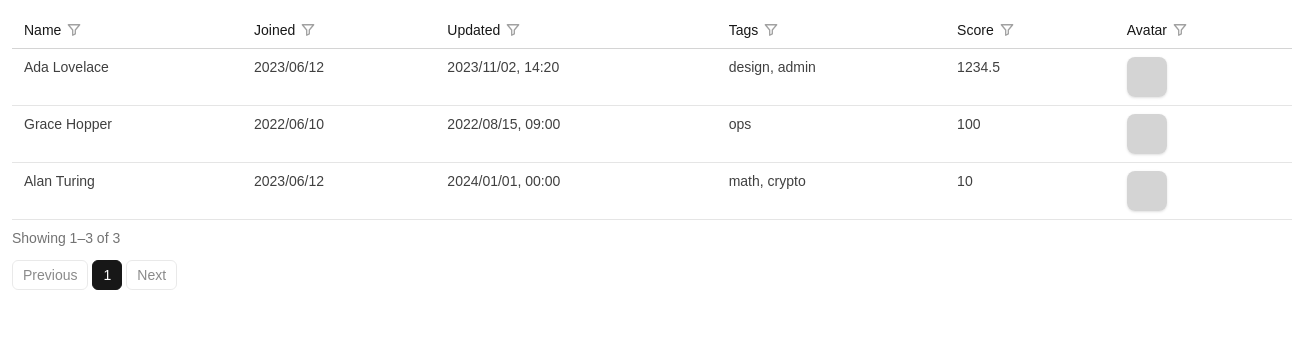
it: Table local filter › combines filters across columns with AND semantics
This screenshot has width=1292, height=337.
Click the button named "Filter Name". click: (74, 30)
box: [65,21,83,39]
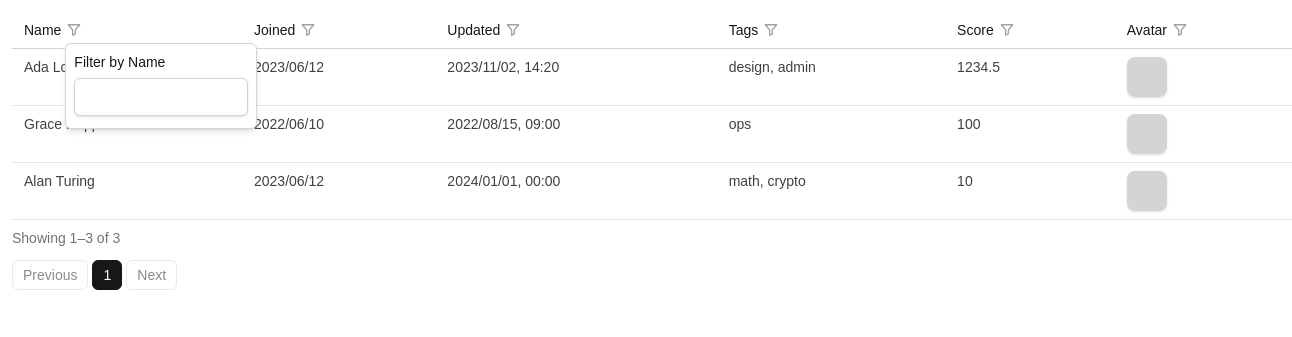
Type "a" into the field labelled "Filter by Name". click: (161, 97)
box: [74,78,248,116]
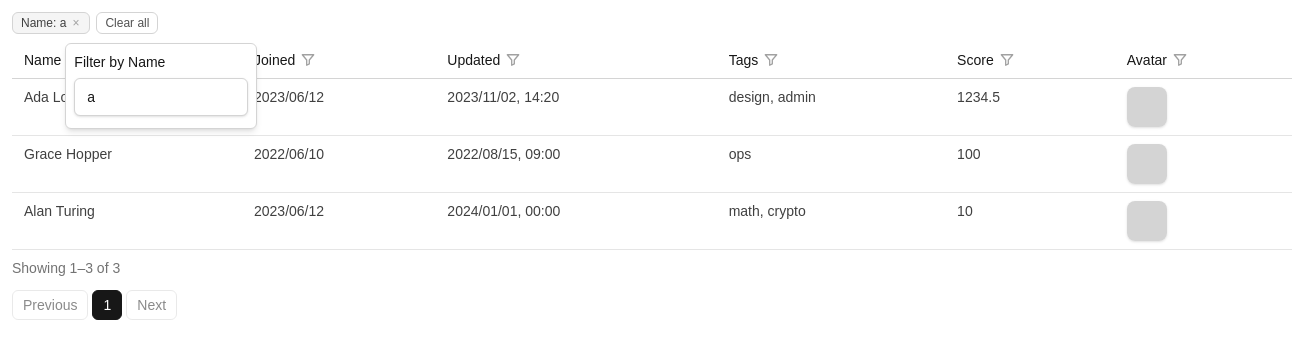
Click the button named "Filter Score". click: (1007, 60)
box: [998,51,1016,69]
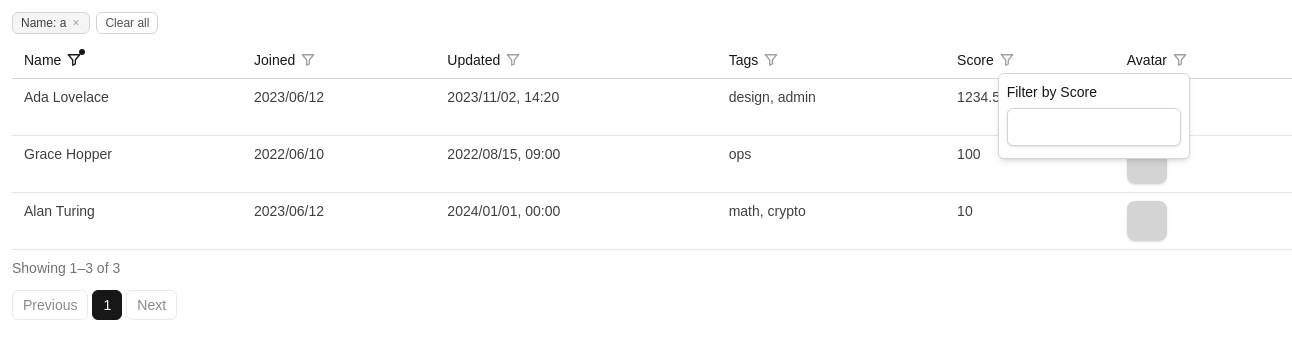
Type "10" into the number field labelled "Filter by Score". click: (1094, 127)
box: [1007,108,1181,146]
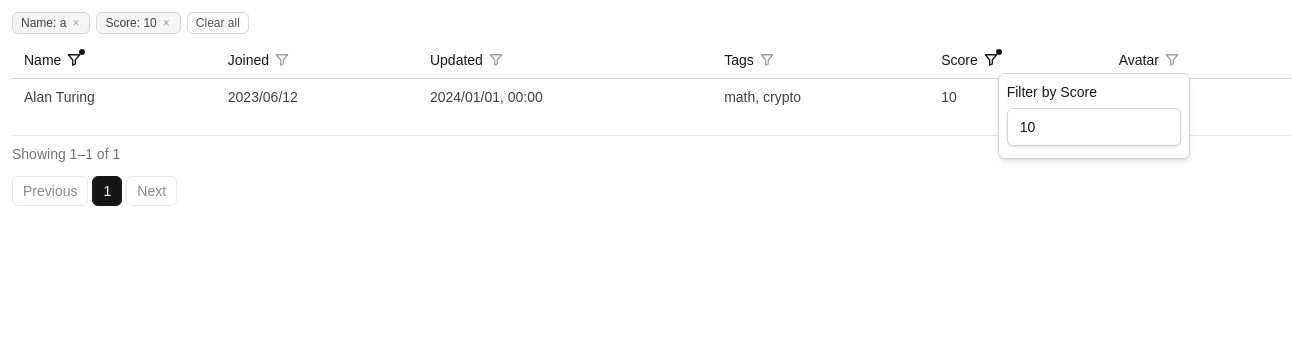
Now the text "Alan Turing" is shown, box [12,78,216,136]
Now the text "Ada Lovelace" is gone
Now the text "Grace Hopper" is gone
